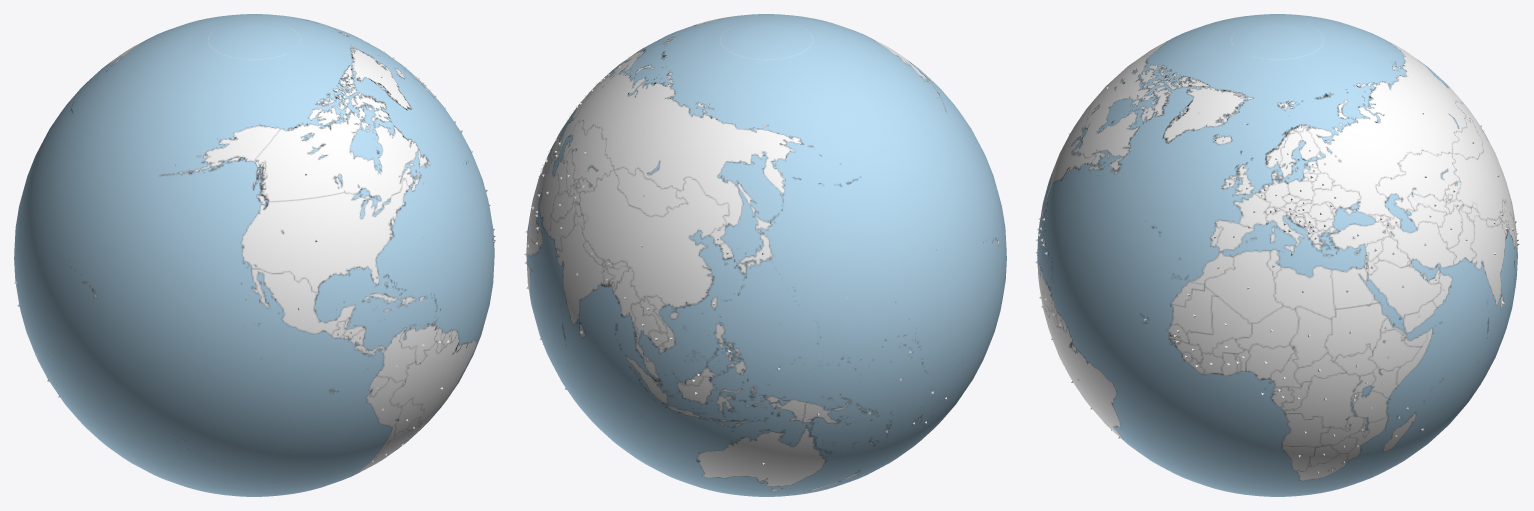
Rendered from perfect-globe.glb.
The picture shows the model from 3 angles, left to right: view 1: azimuth 30°, elevation 25°; view 2: azimuth 150°, elevation 25°; view 3: azimuth 270°, elevation 25°; orthographic projection.
Parts seen in each view (by area): view 1: Sphere; view 2: Sphere; view 3: Sphere.
Part boxes in pixels (x1,y1,x2,y2): Sphere: (14,14,494,496); Sphere: (526,14,1006,496); Sphere: (1037,14,1517,496).
Bounding box in the file's own units: 2.01 × 2.02 × 2.01.
Materials: 1 (1 with a texture image).
